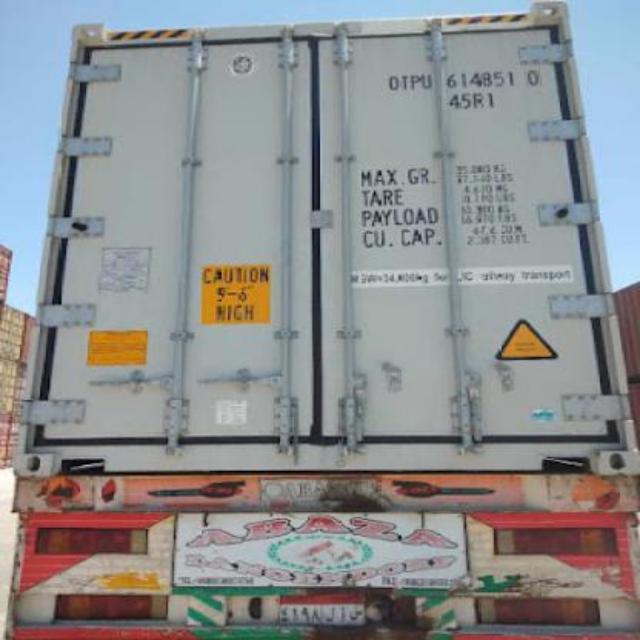0: (526, 68, 542, 88)
1: (504, 66, 520, 86), (458, 66, 468, 90)
4: (468, 66, 482, 88)
5: (494, 66, 504, 90)
6: (444, 68, 458, 90)
8: (478, 66, 494, 88)
O: (380, 73, 398, 91)
P: (410, 73, 420, 97)
T: (400, 73, 412, 94)
U: (418, 68, 436, 92)
